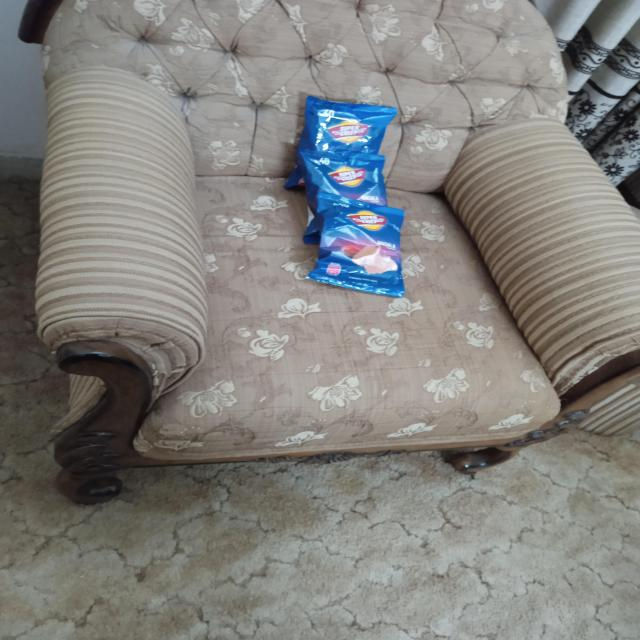Plastic: (316, 203, 400, 294), (306, 95, 394, 151), (304, 150, 386, 203)
